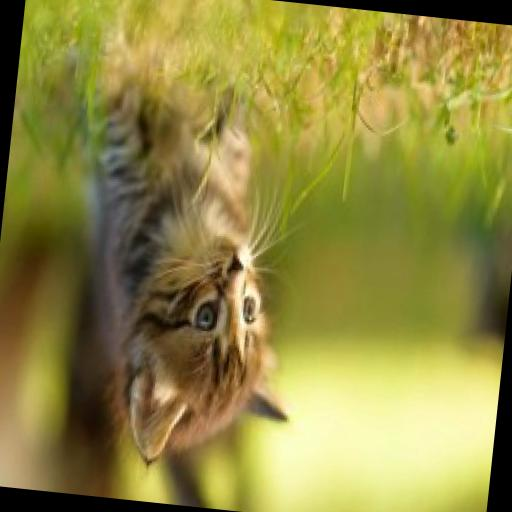cat: (29, 36, 344, 486)
